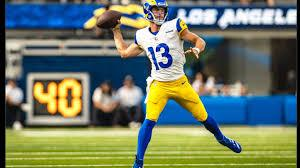americanFootball: (97, 11, 121, 30)
